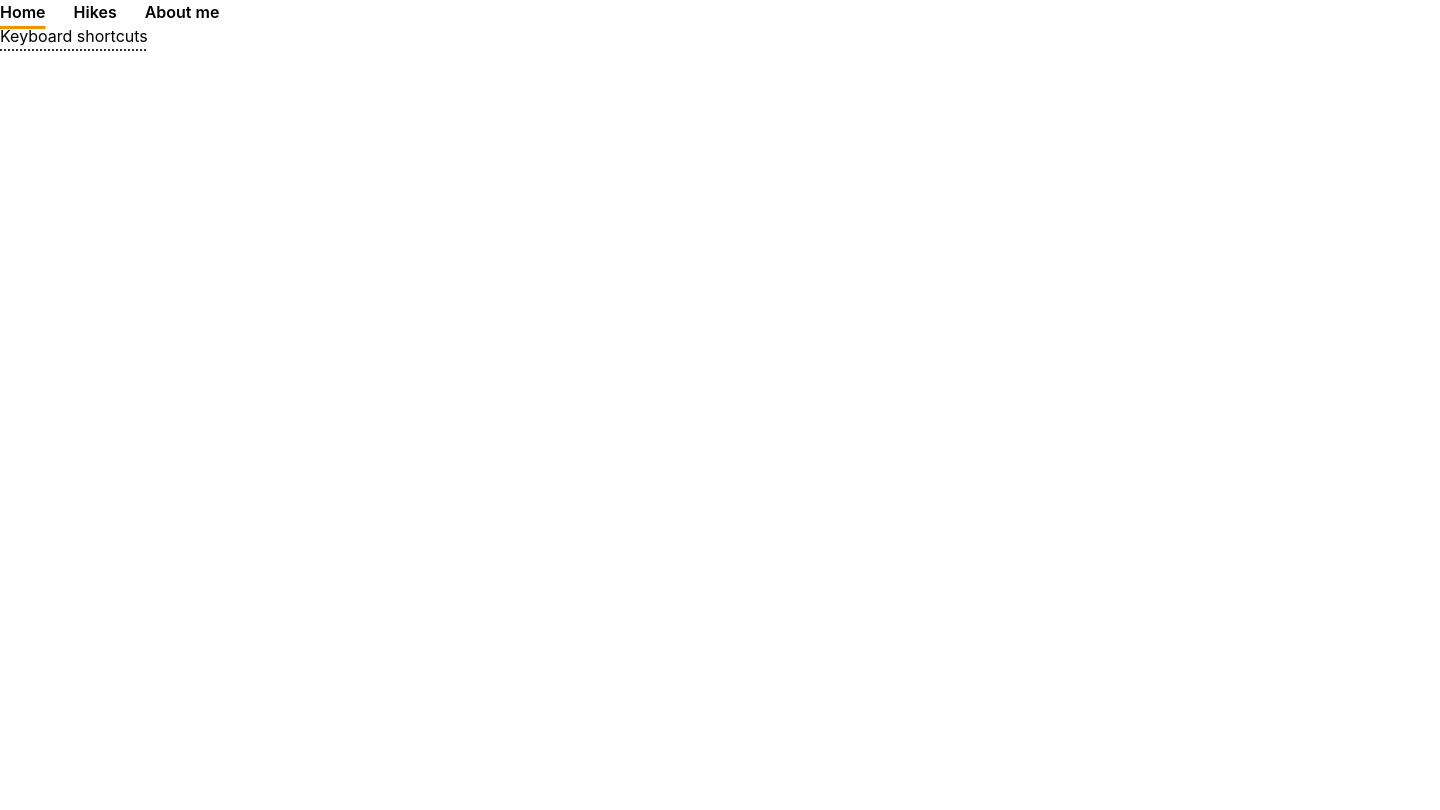
Test: shortcut help opens with ? and turning off character keys removes shortcut metadata
Later steps or results of the test are not shown.
Press ?
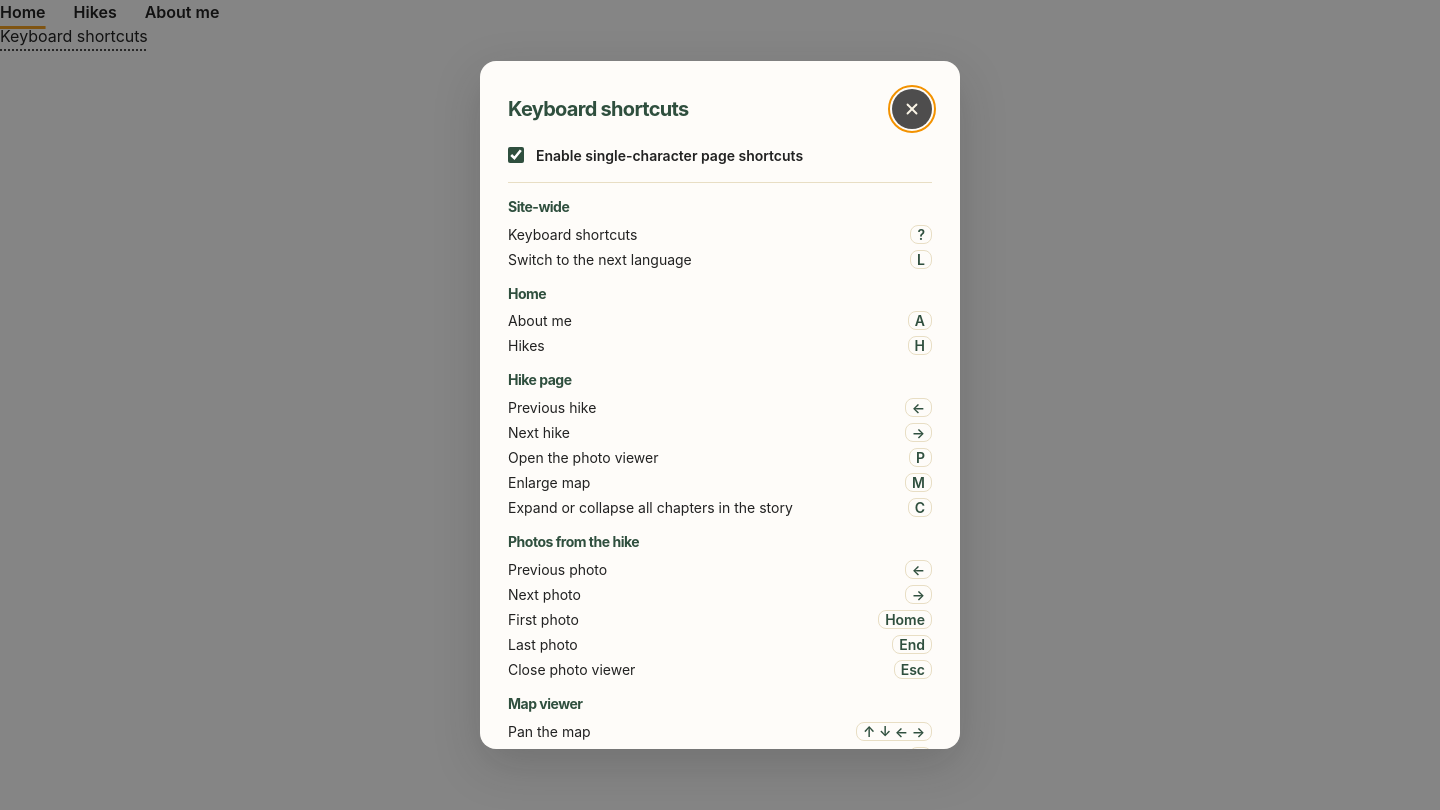
Expected: the dialog "Keyboard shortcuts" is shown, [480,61,960,749]
Click the checkbox labelled "Enable single-character page shortcuts" at [516, 155], box [508,147,524,163]
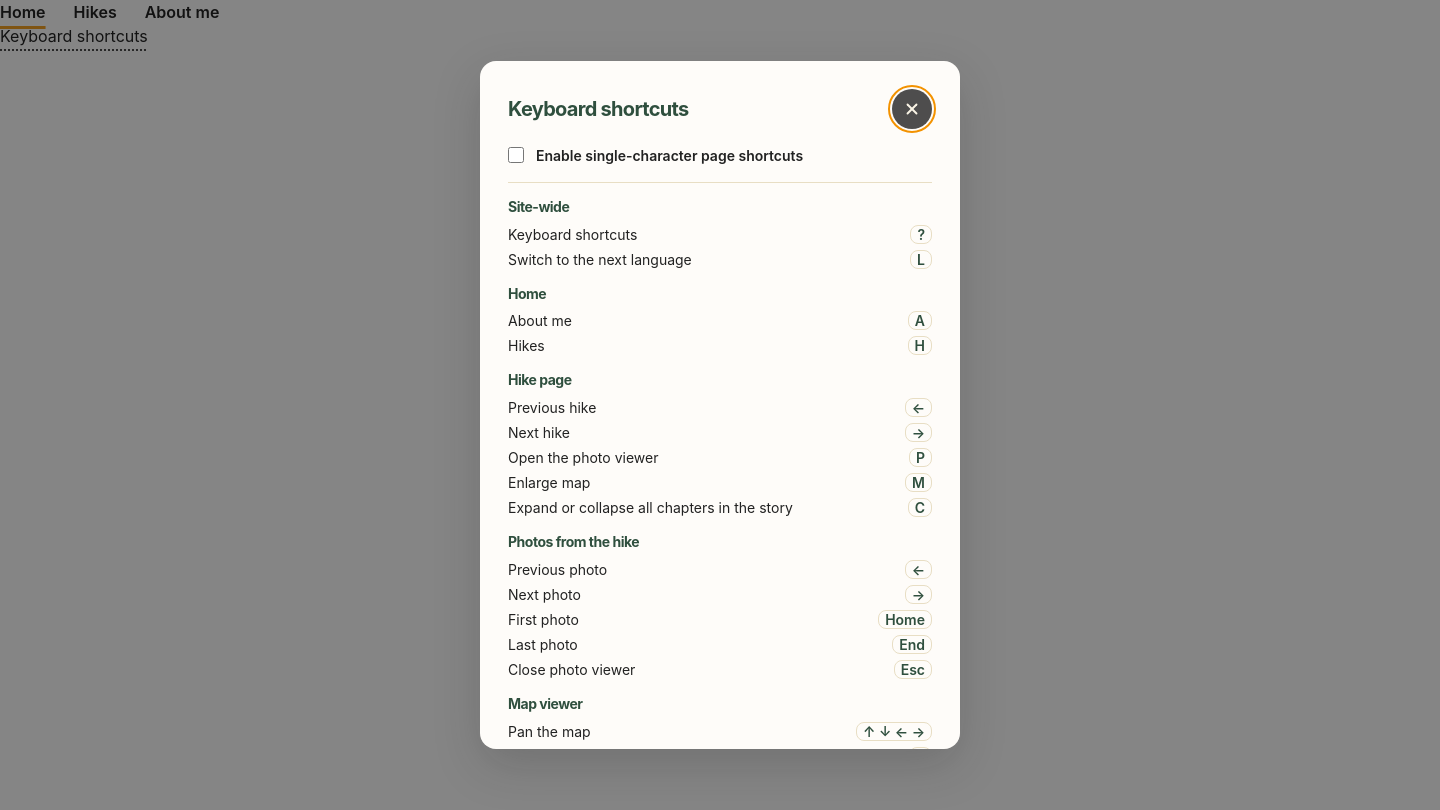
Click the button named "Close" at [912, 109], box [892,89,932,129]
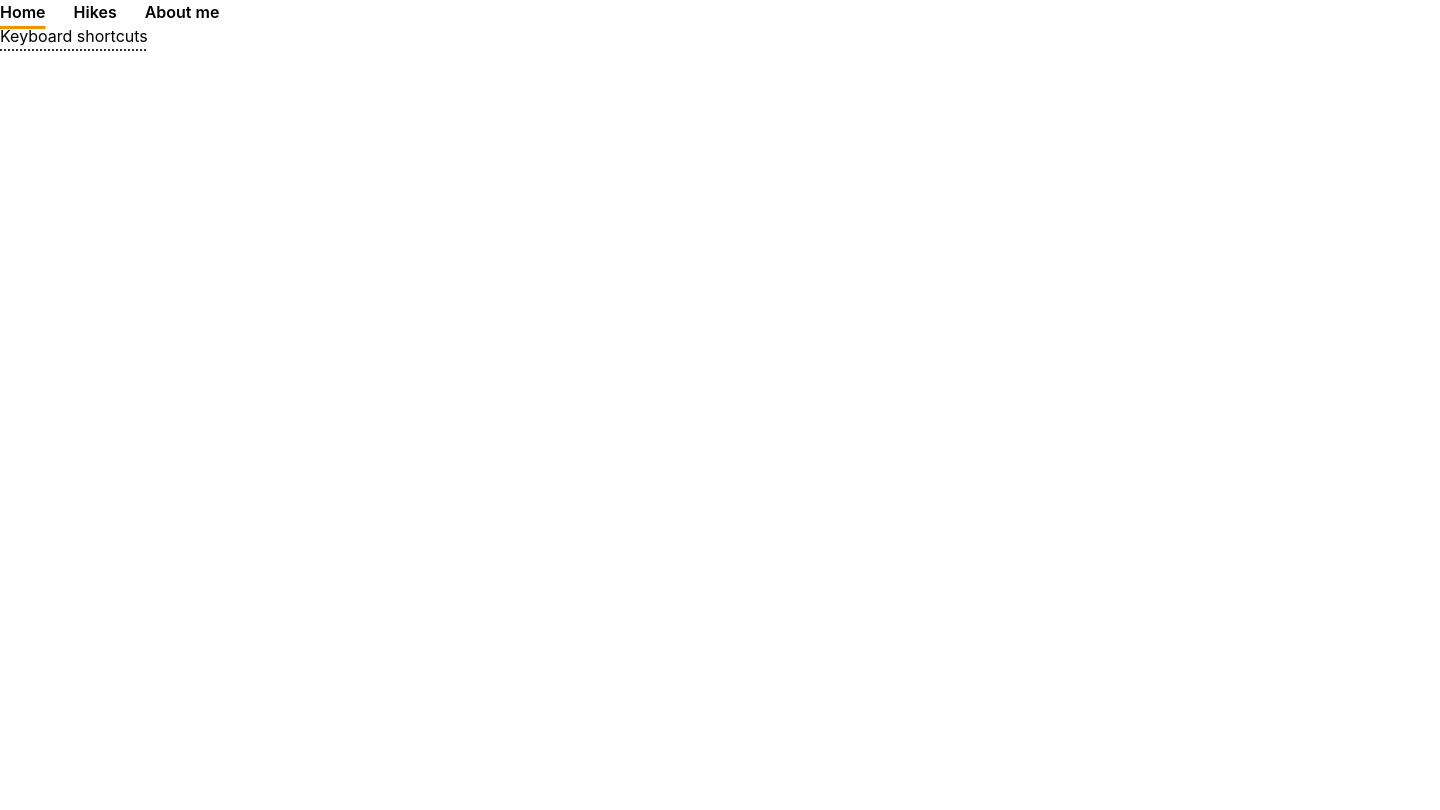
Expected: the link "Hikes" does not have attribute aria-keyshortcuts, [74,0,117,24]
